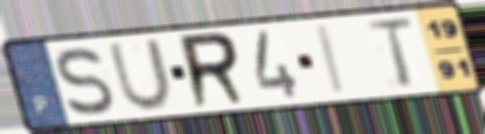4: (254, 28, 300, 100)
I: (315, 22, 349, 97)
R: (176, 29, 252, 112)
S: (54, 44, 117, 118)
T: (363, 15, 417, 91)
U: (105, 36, 176, 113)
